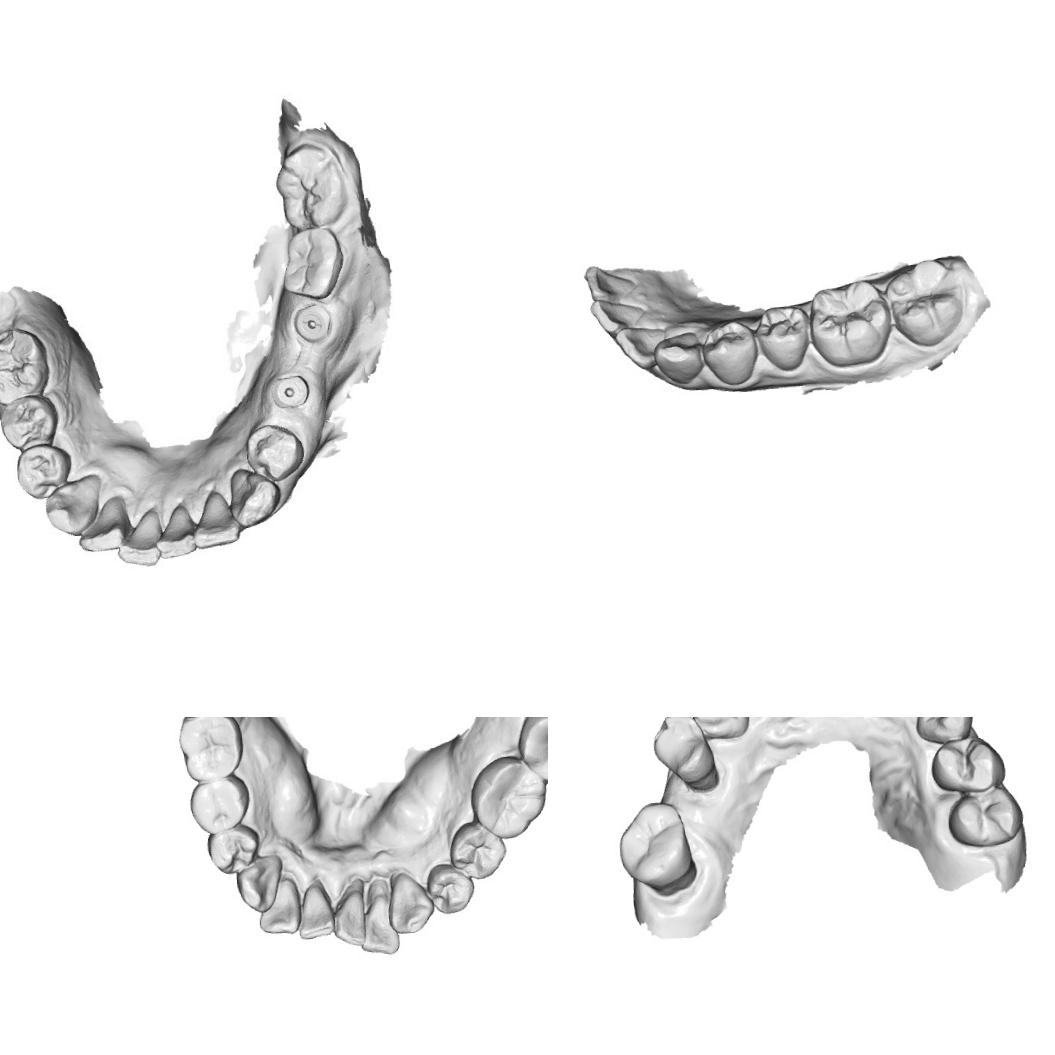canine: (38, 470, 106, 540), (384, 868, 436, 936), (650, 329, 706, 387), (233, 853, 286, 914), (229, 472, 283, 530), (912, 717, 974, 742), (688, 717, 750, 742)
implant: (272, 370, 312, 408)
implant_minus: (292, 303, 337, 342)
incisor: (355, 876, 401, 956), (78, 496, 132, 553), (254, 875, 302, 936), (328, 876, 368, 948), (113, 510, 162, 568), (613, 322, 666, 373), (196, 488, 239, 550), (294, 880, 336, 940), (588, 296, 649, 337), (157, 501, 200, 558), (581, 261, 638, 304)
molar: (805, 274, 895, 370), (612, 798, 696, 892), (882, 256, 965, 350), (466, 752, 548, 840), (274, 140, 349, 227), (280, 224, 348, 300), (175, 717, 246, 783), (0, 329, 49, 401), (514, 717, 548, 784)
premolar: (942, 785, 1024, 848), (927, 732, 1007, 792), (697, 316, 762, 388), (750, 302, 814, 374), (186, 774, 252, 836), (446, 818, 509, 882), (647, 717, 711, 773), (239, 425, 303, 478), (204, 822, 262, 876), (424, 861, 476, 916), (15, 445, 71, 496), (1, 398, 59, 447)
